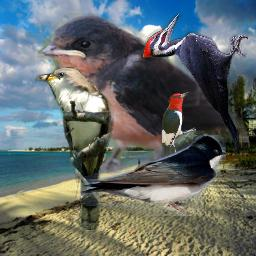Cuckoo: (35, 67, 114, 230)
Swallow: (37, 13, 249, 176), (80, 135, 226, 216)
Woodpecker: (143, 14, 248, 162), (161, 92, 196, 157)
